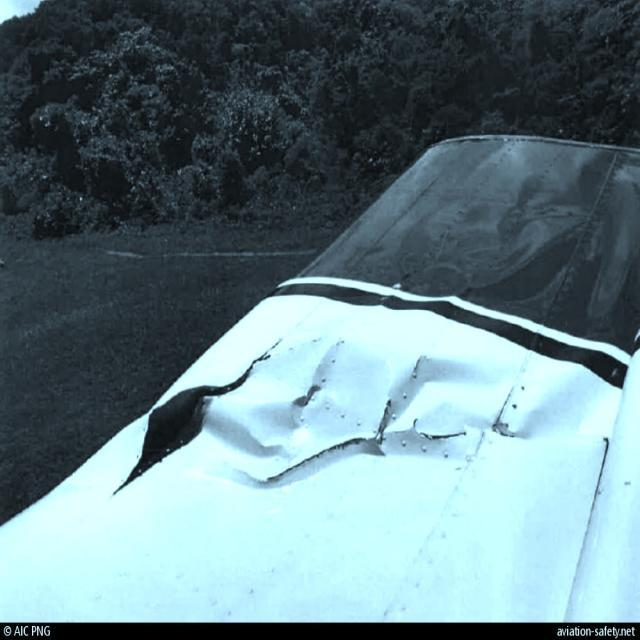crack: (277, 444, 367, 492), (418, 426, 476, 451), (373, 402, 393, 440), (415, 357, 429, 385)
